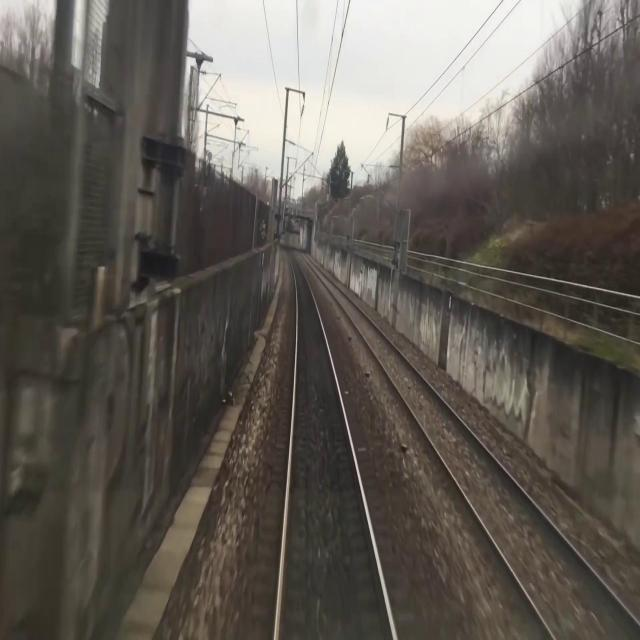rail-track: (278, 251, 392, 639)
